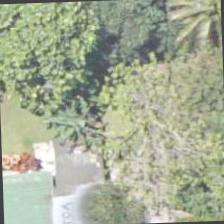Kelapa_Sawit: (167, 0, 223, 56)
